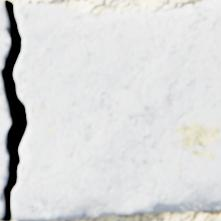broken_brick: (12, 0, 220, 219), (0, 76, 10, 195), (0, 2, 10, 69), (0, 198, 3, 217)
crack: (0, 1, 28, 219)
